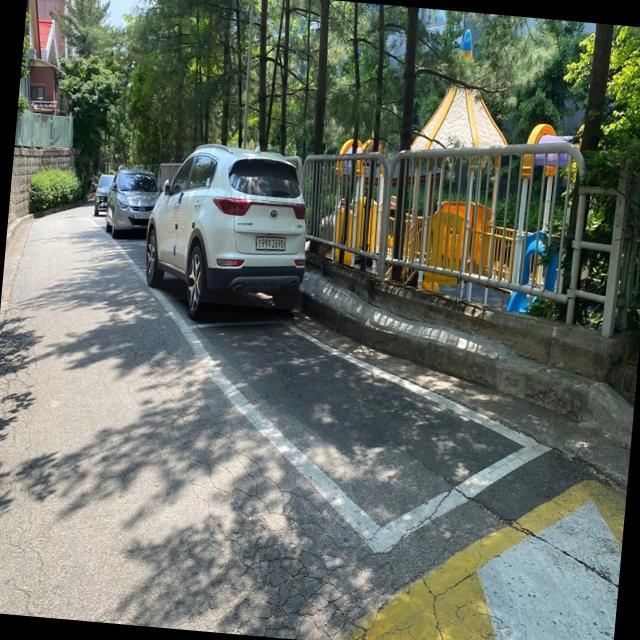empty: (181, 317, 551, 558)
occupied: (146, 138, 315, 310)
